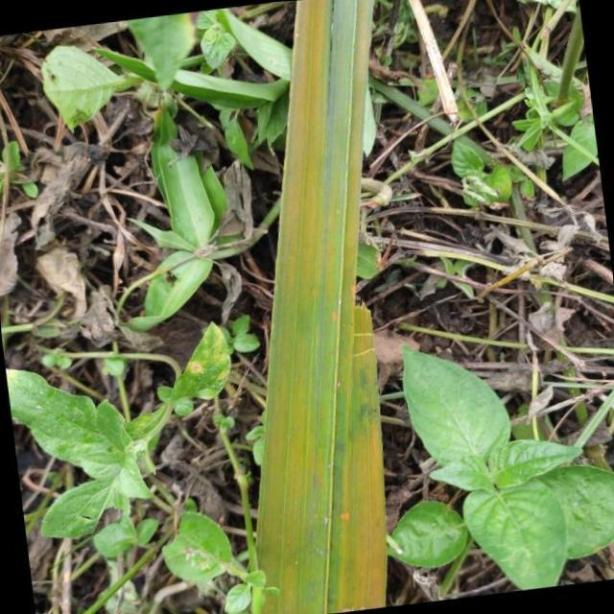Megnesium: (253, 0, 387, 614)
